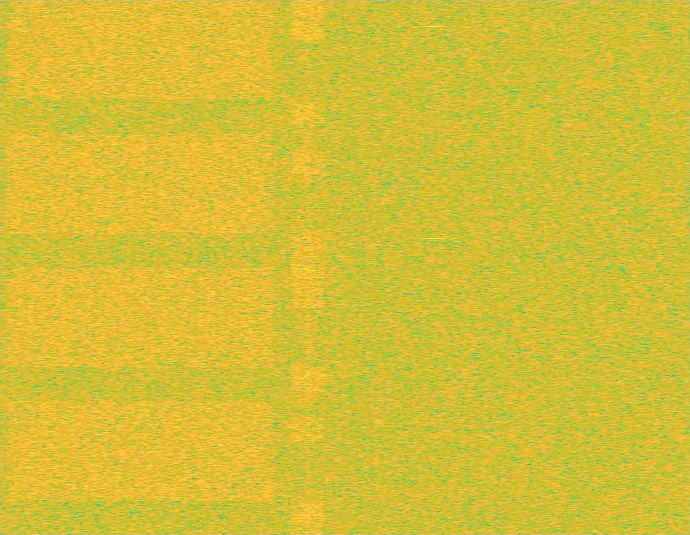5G: (2, 0, 278, 534)
DSSS: (306, 0, 310, 534)
LTE: (291, 0, 325, 534)
Radar: (427, 0, 441, 534)
